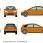car: (4, 24, 17, 33)
